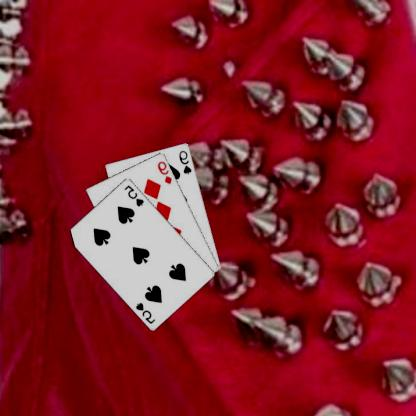5S: (123, 182, 147, 208), (135, 300, 158, 325)
9D: (157, 159, 175, 185)
9S: (178, 148, 195, 176)
